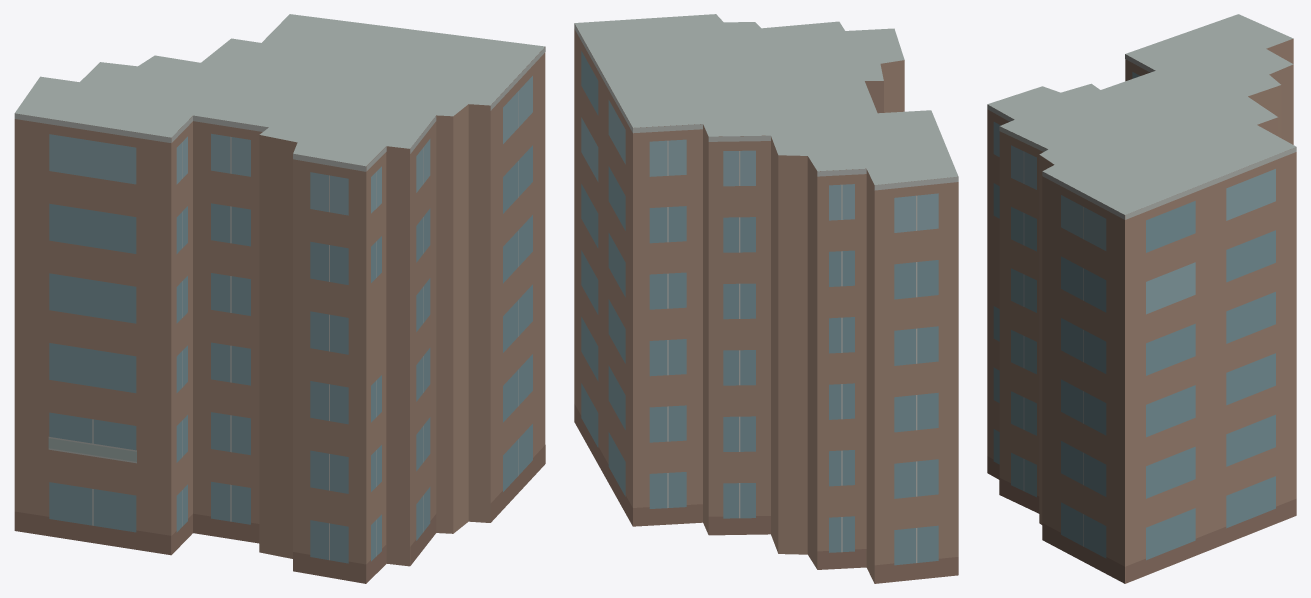
The model's file is survey-upis-32593873.glb.
3 renders of one model, left to right at view 1: azimuth 30°, elevation 25°; view 2: azimuth 150°, elevation 25°; view 3: azimuth 270°, elevation 25°, orthographic. The views are drawn at different scales.
Visible parts, largest first — view 1: survey-upis-32593873.tmp; view 2: survey-upis-32593873.tmp; view 3: survey-upis-32593873.tmp.
Boxes of the visible parts, <box> form: survey-upis-32593873.tmp: <box>14,14,545,583</box>; survey-upis-32593873.tmp: <box>574,14,958,583</box>; survey-upis-32593873.tmp: <box>987,14,1296,583</box>.
Bounding box in the file's own units: 21.29 × 18.2 × 13.85.
